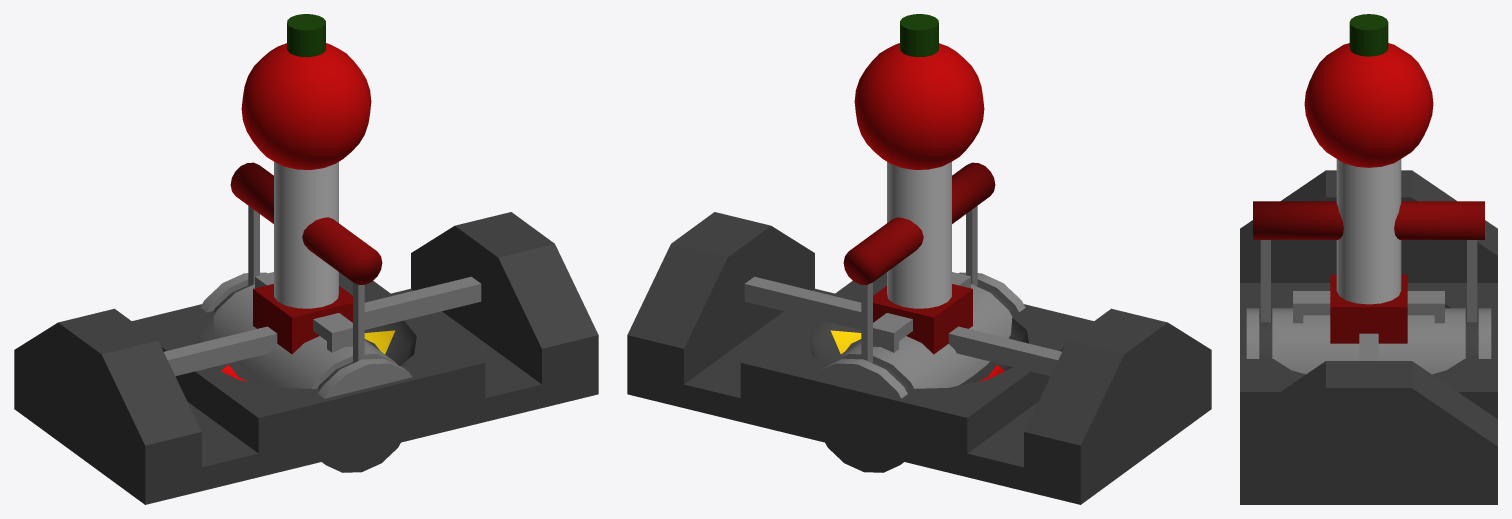
File: BNG_Buttons.fbx
The picture shows the model from 3 angles, left to right: view 1: azimuth 30°, elevation 25°; view 2: azimuth 150°, elevation 25°; view 3: azimuth 270°, elevation 25°; orthographic projection.
Parts seen in each view (by area): view 1: BNG_Button_Slide_A, BNG_Button_Joystick, BNG_Button_Joystick_A, BNG_Button_Crane_A, BNG_Button_Crane_B, BNG_Button_Crane_A_Pull, BNG_Button_Slide_A_Body, BNG_Button_Crane_C_Pull, BNG_Button_Crane_C, BNG_Button_Crane_B_Pull; view 2: BNG_Button_Slide_A, BNG_Button_Joystick, BNG_Button_Joystick_A, BNG_Button_Crane_B, BNG_Button_Crane_A, BNG_Button_Crane_A_Pull, BNG_Button_Slide_A_Body, BNG_Button_Crane_C_Pull, BNG_Button_Crane_C, BNG_Button_Crane_B_Pull; view 3: BNG_Button_Slide_A, BNG_Button_Joystick_A, BNG_Button_Crane_B, BNG_Button_Crane_A_Pull, BNG_Button_Joystick, BNG_Button_Crane_A, BNG_Button_Crane_C, BNG_Button_Crane_C_Pull, BNG_Button_Slide_A_Body, BNG_Button_Crane_B_Pull.
Part boxes in pixels (x1,y1,x2,y2): BNG_Button_Slide_A: (14,212,598,503); BNG_Button_Joystick: (132,272,485,453); BNG_Button_Joystick_A: (241,43,371,308); BNG_Button_Crane_A: (14,289,598,504); BNG_Button_Crane_B: (145,272,598,504); BNG_Button_Crane_A_Pull: (230,162,382,362); BNG_Button_Slide_A_Body: (253,284,352,354); BNG_Button_Crane_C_Pull: (255,14,352,352); BNG_Button_Crane_C: (14,290,410,503); BNG_Button_Crane_B_Pull: (213,285,400,472); BNG_Button_Slide_A: (627,212,1211,504); BNG_Button_Joystick: (740,272,1093,453); BNG_Button_Joystick_A: (854,43,984,308); BNG_Button_Crane_B: (627,272,1080,503); BNG_Button_Crane_A: (627,289,1211,504); BNG_Button_Crane_A_Pull: (843,162,995,362); BNG_Button_Slide_A_Body: (873,284,972,354); BNG_Button_Crane_C_Pull: (873,14,970,352); BNG_Button_Crane_C: (711,289,1211,504); BNG_Button_Crane_B_Pull: (825,285,1012,472); BNG_Button_Slide_A: (1240,170,1497,504); BNG_Button_Joystick_A: (1304,43,1433,304); BNG_Button_Crane_B: (1246,308,1491,374); BNG_Button_Crane_A_Pull: (1253,201,1484,322); BNG_Button_Joystick: (1240,283,1497,418); BNG_Button_Crane_A: (1240,481,1497,504); BNG_Button_Crane_C: (1240,315,1497,504); BNG_Button_Crane_C_Pull: (1293,14,1444,323); BNG_Button_Slide_A_Body: (1330,274,1407,343); BNG_Button_Crane_B_Pull: (1259,314,1478,357).
Size of the model in its own units: 80 by 69 by 40.
